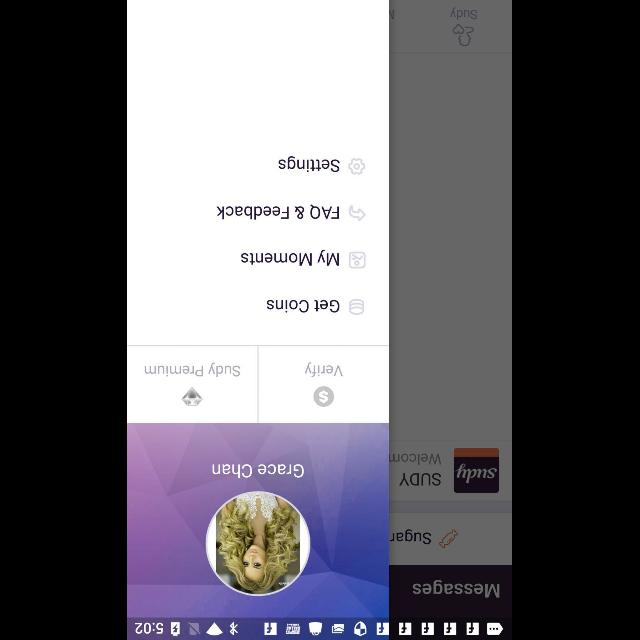icon: (314, 386, 334, 406), (348, 158, 366, 175), (349, 205, 366, 221), (349, 252, 366, 268)
image: (206, 492, 312, 596), (182, 386, 204, 406), (349, 299, 365, 315)
panel: (128, 1, 390, 617)
text: (217, 204, 341, 220), (242, 250, 341, 266), (144, 362, 242, 378), (212, 462, 306, 478), (268, 299, 340, 313), (279, 156, 341, 172), (304, 361, 344, 377)
uppertaskbar: (128, 617, 512, 639)
